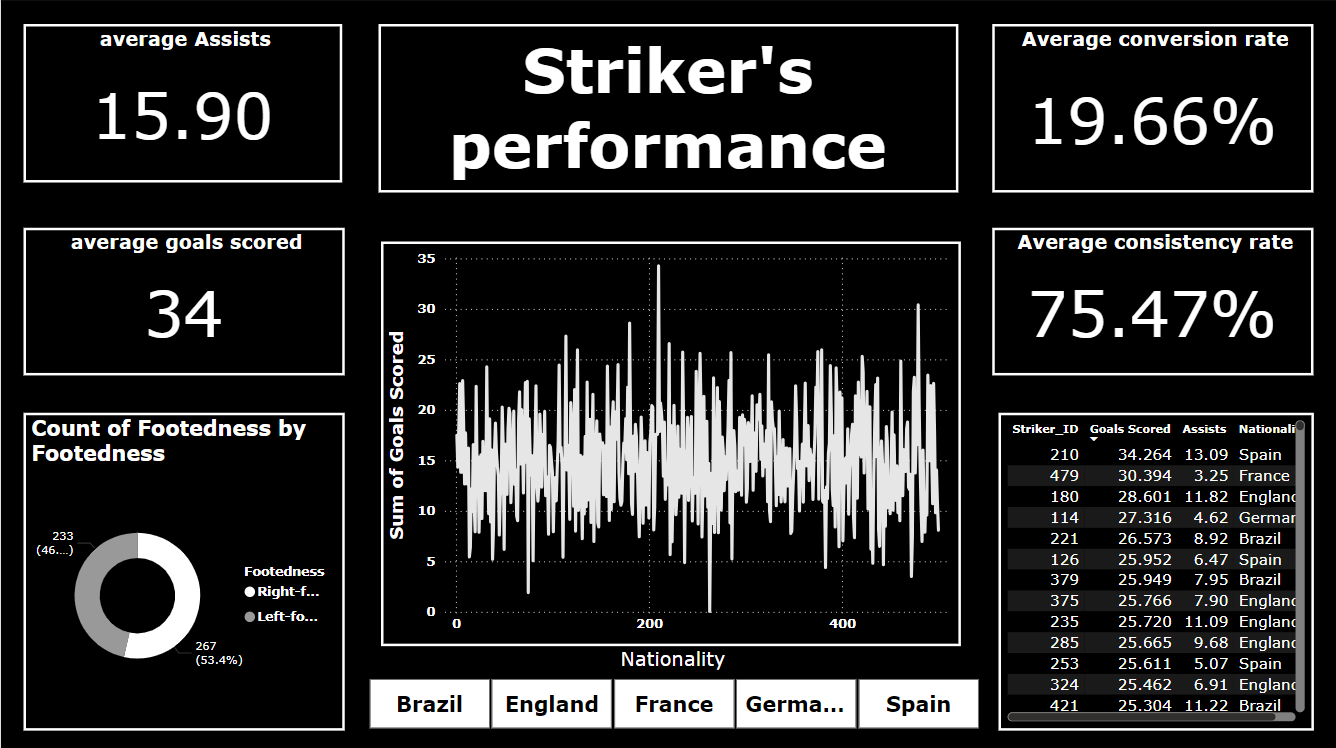

Layout of this report page (visuals, bound fields, positions):
{"tool":"powerbi","page":{"name":"Striker's dashboard","canvas":[1280,720],"ordinal":0},"visuals":[{"type":"shape","box":[0,1.2,1280,719.1],"z":0},{"type":"slicer","title":"Nationality","fields":{"Values":["striker_performace.Nationality"]},"box":[327.2,620.8,629.2,80.3],"z":1000},{"type":"donutChart","fields":{"Category":["striker_performace.Footedness"],"Y":["CountNonNull(striker_performace.Footedness)"]},"box":[21.6,396.7,308,304.4],"z":2000},{"type":"tableEx","fields":{"Values":["striker_performace.Striker_ID","striker_performace.Goals Scored","striker_performace.Assists","striker_performace.Nationality"]},"box":[956.4,396.7,302,304.4],"z":3000},{"type":"lineChart","fields":{"Category":["striker_performace.Striker_ID"],"Y":["Sum(striker_performace.Goals Scored)"]},"box":[364.1,232.9,556.3,387.8],"z":4000},{"type":"kpi","title":"average goals scored ","fields":{"Indicator":["Avg(striker_performace.Goals Scored)"],"TrendLine":["striker_performace.Goals Scored"]},"box":[21.6,219.3,308,141.4],"z":5000},{"type":"kpi","title":"average Assists ","fields":{"Indicator":["Sum(striker_performace.Assists)"],"TrendLine":["striker_performace.Assists"]},"box":[21.6,24,305.6,152.2],"z":6000},{"type":"textbox","box":[361.9,24,556.1,161.8],"z":7000},{"type":"kpi","title":"Average consistency rate","fields":{"Indicator":["Avg(striker_performace.Consistency)"],"TrendLine":["striker_performace.Nationality"]},"box":[950.4,219.3,308,141.4],"z":8000},{"type":"kpi","title":"Average conversion rate","fields":{"TrendLine":["striker_performace.Nationality"],"Indicator":["Avg(striker_performace.Conversion Rate)"]},"box":[950.4,24,308,161.8],"z":9000}]}

Visuals, with their boxes in screenshot pixels (x1, y1, x2, y2), scaled from the page's 1280x720 canvas onto the 1336x748 screenshot:
shape: <region>0, 1, 1335, 747</region>
"Nationality" slicer: <region>342, 645, 998, 728</region>
donutChart - striker_performace.Footedness x CountNonNull(striker_performace.Footedness): <region>23, 412, 344, 728</region>
tableEx - striker_performace.Striker_ID x striker_performace.Goals Scored: <region>998, 412, 1313, 728</region>
lineChart - striker_performace.Striker_ID x Sum(striker_performace.Goals Scored): <region>380, 242, 961, 645</region>
"average goals scored " kpi: <region>23, 228, 344, 375</region>
"average Assists " kpi: <region>23, 25, 342, 183</region>
textbox: <region>378, 25, 958, 193</region>
"Average consistency rate" kpi: <region>992, 228, 1313, 375</region>
"Average conversion rate" kpi: <region>992, 25, 1313, 193</region>
